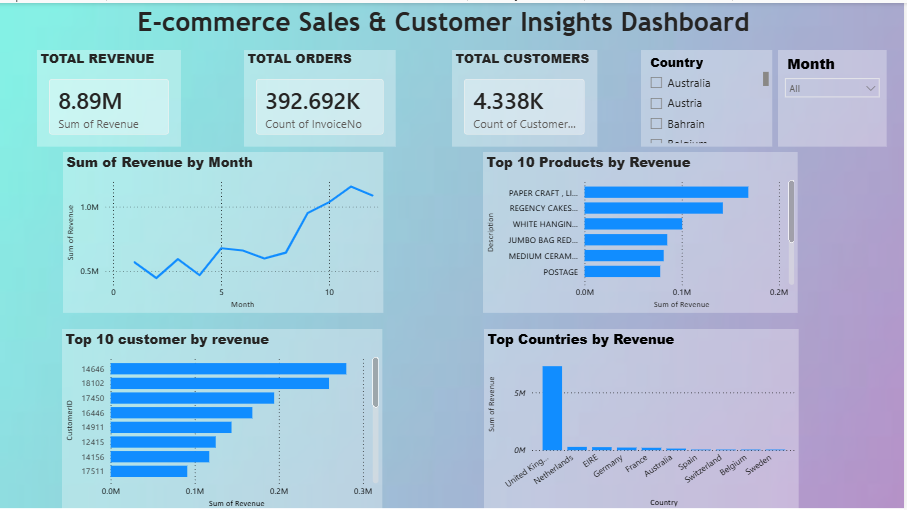

The dashboard page shown, as its layout file describes it:
{"tool":"powerbi","page":{"name":"Page 1","canvas":[1280,720],"ordinal":0},"visuals":[{"type":"cardVisual","title":"TOTAL REVENUE","fields":{"Data":["Sum(cleaned_sales_data.Revenue)"]},"box":[52.4,66.6,204.1,137.5],"z":0},{"type":"cardVisual","title":"TOTAL ORDERS","fields":{"Data":["CountNonNull(cleaned_sales_data.InvoiceNo)"]},"box":[345.8,66.6,215.4,137.5],"z":1000},{"type":"cardVisual","title":"TOTAL CUSTOMERS","fields":{"Data":["Count(cleaned_sales_data.CustomerID)"]},"box":[640.6,66.6,205.5,137.5],"z":2000},{"type":"lineChart","fields":{"Category":["cleaned_sales_data.Month"],"Y":["Sum(cleaned_sales_data.Revenue)"]},"box":[89.3,211.2,453.5,228.2],"z":3000},{"type":"barChart","title":"Top 10 Products by Revenue","fields":{"Category":["cleaned_sales_data.Description"],"Y":["Sum(cleaned_sales_data.Revenue)"]},"box":[684.6,211.2,446.5,228.2],"z":4000},{"type":"clusteredColumnChart","title":"Top Countries by Revenue","fields":{"Category":["cleaned_sales_data.Country"],"Y":["Sum(cleaned_sales_data.Revenue)"]},"box":[685.4,462.2,446.4,257.8],"z":5000},{"type":"clusteredBarChart","title":"Top 10 customer by revenue","fields":{"Category":["cleaned_sales_data.CustomerID"],"Y":["Sum(cleaned_sales_data.Revenue)"]},"box":[87.3,461.9,453.5,258.7],"z":6000},{"type":"slicer","title":"Months","fields":{"Values":["cleaned_sales_data.Month"]},"box":[1102.7,66.6,154.5,137.5],"z":7000},{"type":"slicer","fields":{"Values":["cleaned_sales_data.Country"]},"box":[908.5,66.6,185.7,137.5],"z":8000},{"type":"textbox","box":[0,0,1257.1,54.7],"z":9000}]}

Visuals, with their boxes in screenshot pixels (x1, y1, x2, y2), scaled from the page's 1280x720 canvas onto the 907x510 screenshot:
"TOTAL REVENUE" cardVisual: x1=37 y1=47 x2=182 y2=145
"TOTAL ORDERS" cardVisual: x1=245 y1=47 x2=398 y2=145
"TOTAL CUSTOMERS" cardVisual: x1=454 y1=47 x2=600 y2=145
lineChart - cleaned_sales_data.Month x Sum(cleaned_sales_data.Revenue): x1=63 y1=150 x2=385 y2=311
"Top 10 Products by Revenue" barChart: x1=485 y1=150 x2=801 y2=311
"Top Countries by Revenue" clusteredColumnChart: x1=486 y1=327 x2=802 y2=509
"Top 10 customer by revenue" clusteredBarChart: x1=62 y1=327 x2=383 y2=509
"Months" slicer: x1=781 y1=47 x2=891 y2=145
slicer - cleaned_sales_data.Country: x1=644 y1=47 x2=775 y2=145
textbox: x1=0 y1=0 x2=891 y2=39
